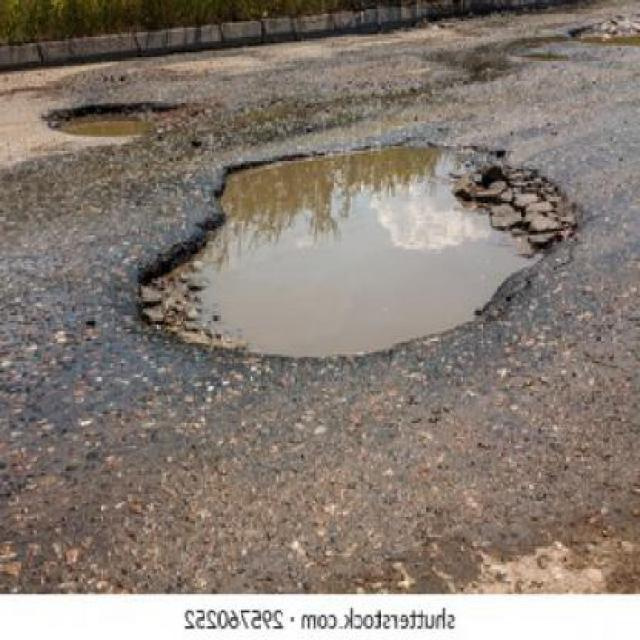Pothole: (117, 126, 598, 369), (38, 99, 214, 138), (561, 11, 639, 51)
